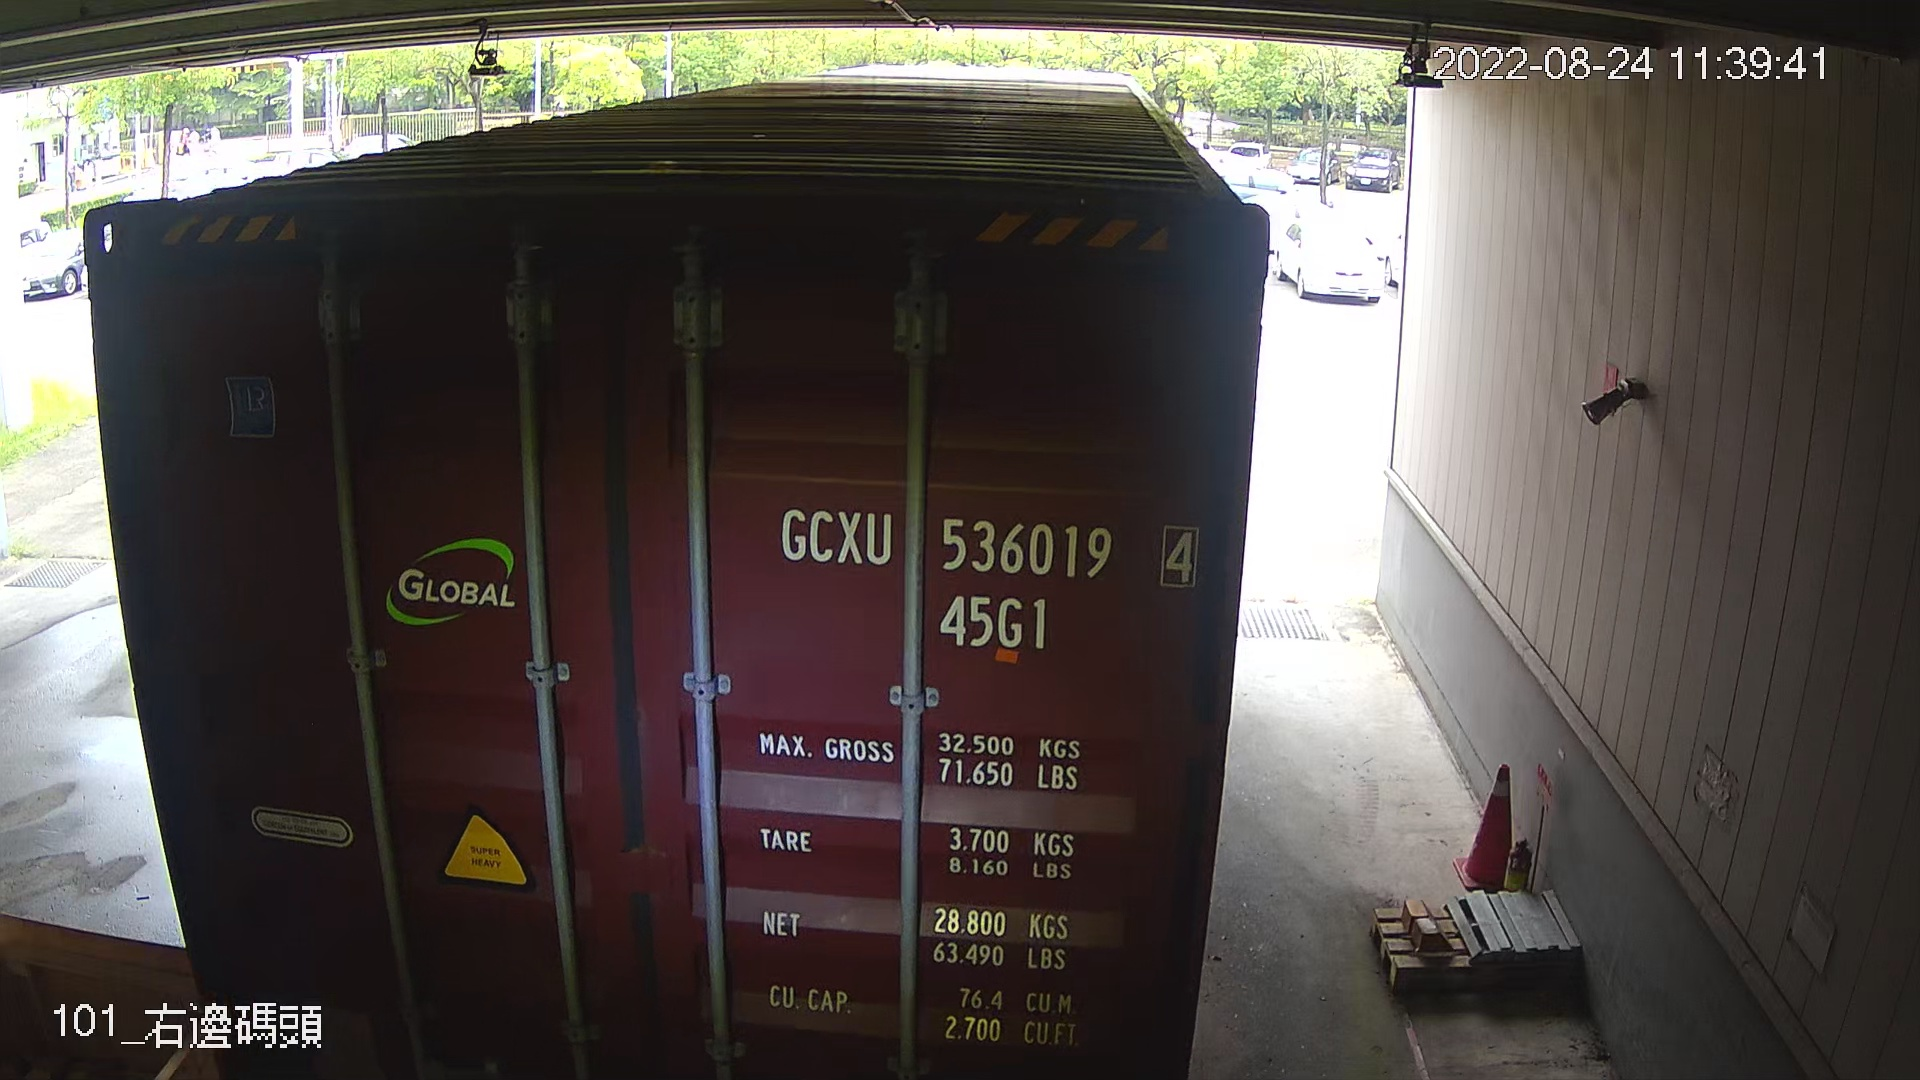container: (762, 483, 1207, 669)
